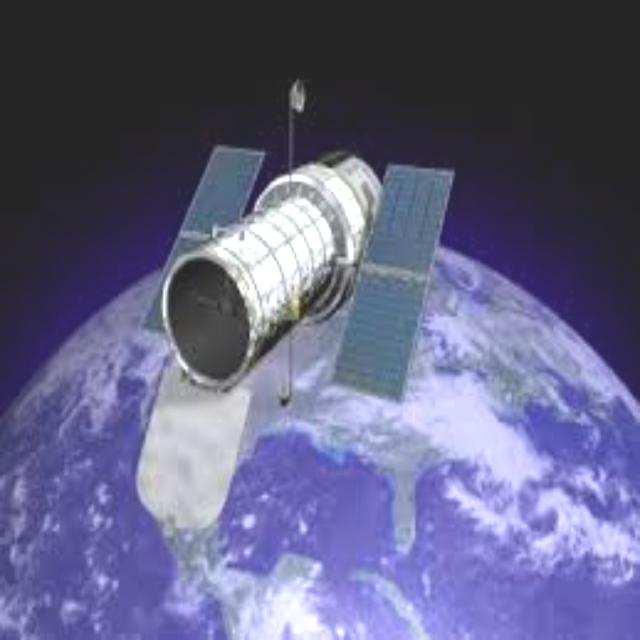medium_debris: (134, 62, 452, 542)
